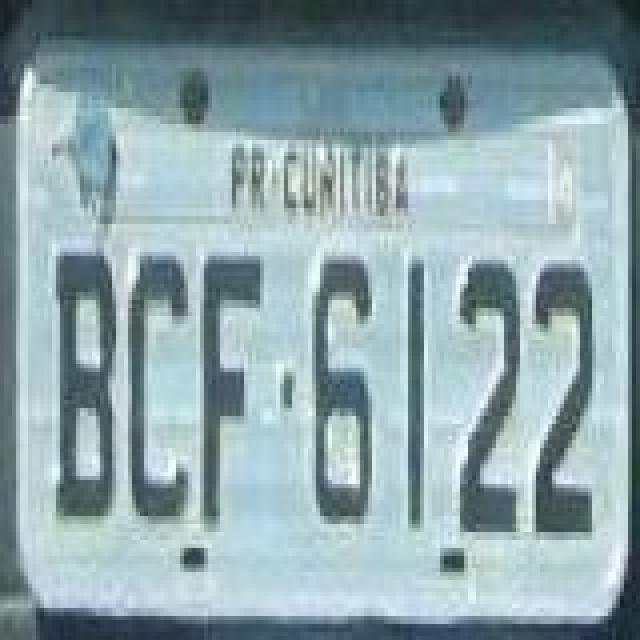1: (404, 252, 428, 532)
2: (530, 260, 598, 540), (456, 260, 520, 540)
6: (312, 256, 376, 528)
B: (50, 248, 118, 520)
C: (128, 244, 192, 524)
F: (200, 252, 264, 532)
